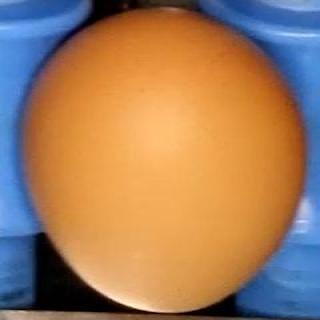Telur: (13, 7, 314, 314)
